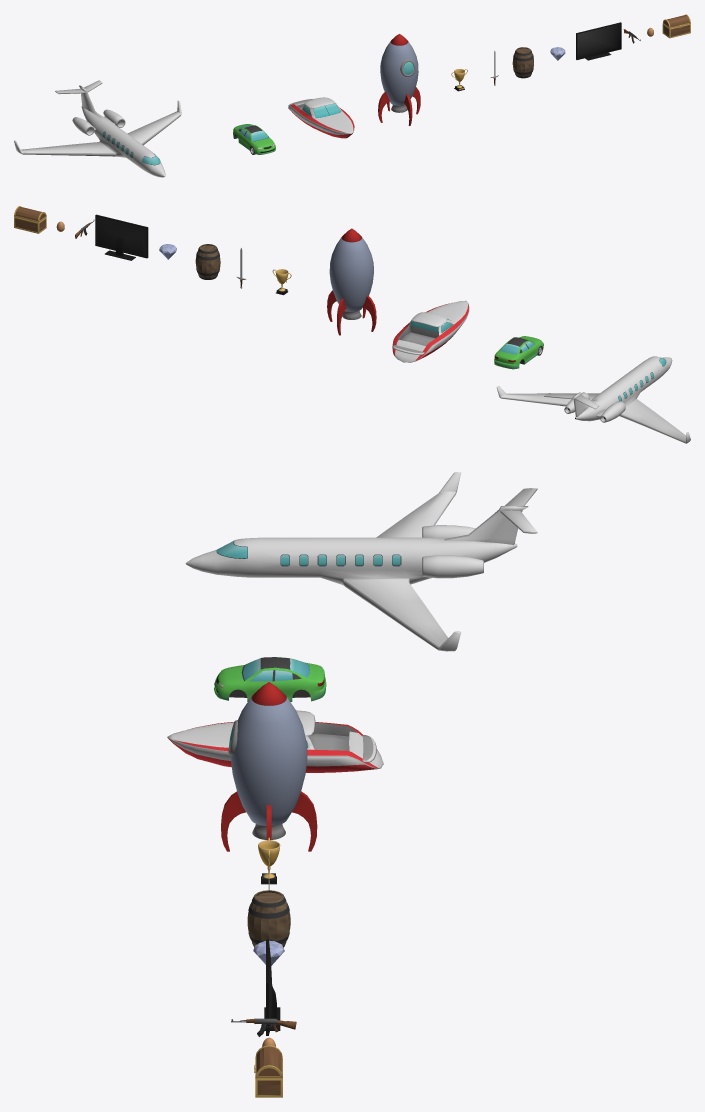
File: Examples.fbx
The picture shows the model from 3 angles, top to bottom: view 1: azimuth 30°, elevation 25°; view 2: azimuth 150°, elevation 25°; view 3: azimuth 270°, elevation 25°; orthographic projection. The views are drawn at different scales.
Visible parts, largest first — view 1: Plane, Rocket, Boat, TV, Car, Barrel, Chest; view 2: Plane, Rocket, Boat, TV, Car, Barrel, Chest; view 3: Plane, Rocket, Boat, Car, Barrel, Chest.
Part boxes in pixels (x1,y1,x2,y2): Plane: [14, 80, 181, 177]; Rocket: [378, 34, 420, 125]; Boat: [288, 97, 354, 138]; TV: [576, 22, 621, 60]; Car: [233, 124, 275, 154]; Barrel: [512, 47, 533, 78]; Chest: [662, 14, 690, 38]; Plane: [496, 356, 690, 443]; Rocket: [327, 228, 376, 335]; Boat: [392, 300, 469, 362]; TV: [95, 214, 148, 260]; Car: [494, 336, 543, 369]; Barrel: [195, 244, 220, 279]; Chest: [14, 206, 46, 233]; Plane: [185, 472, 537, 651]; Rocket: [221, 682, 317, 851]; Boat: [167, 710, 383, 772]; Car: [214, 657, 326, 701]; Barrel: [247, 890, 290, 947]; Chest: [254, 1045, 282, 1097].
Size of the model in its own units: 129 by 16.64 by 33.
